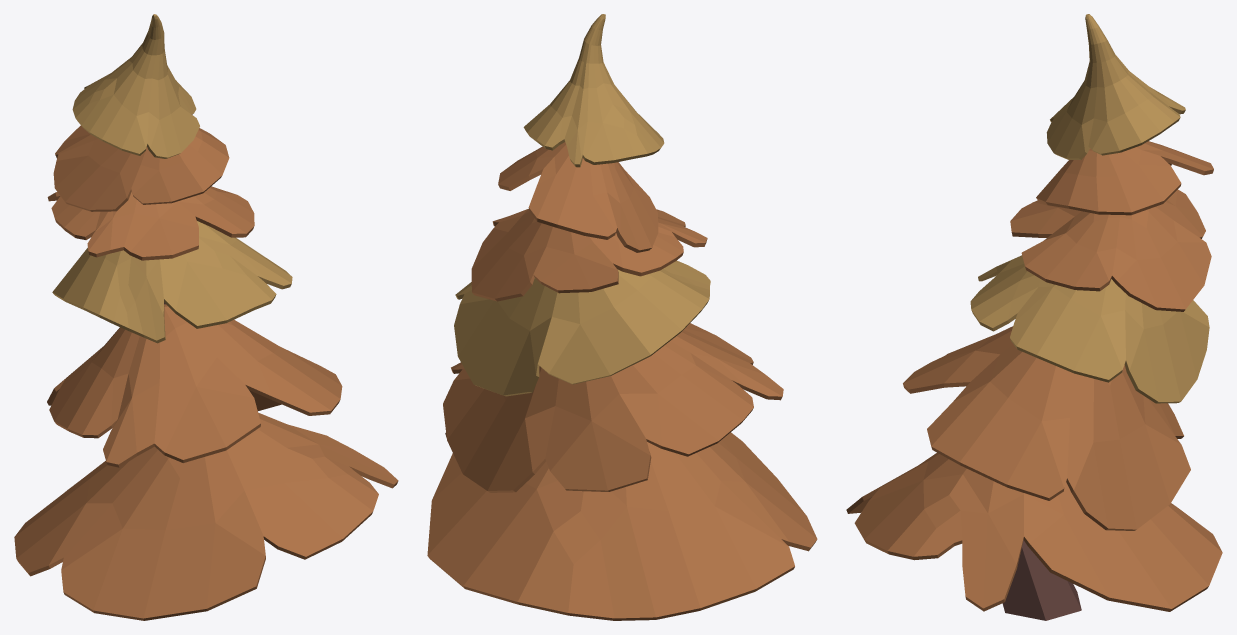
Rendered from PineTree_Autumn_3.glb.
3 renders of one model, left to right at view 1: azimuth 30°, elevation 25°; view 2: azimuth 150°, elevation 25°; view 3: azimuth 270°, elevation 25°, orthographic. The views are drawn at different scales.
Visible parts, largest first — view 1: PineTree_Autumn_3_Cylinder.063; view 2: PineTree_Autumn_3_Cylinder.063; view 3: PineTree_Autumn_3_Cylinder.063.
Part boxes in pixels (x1,y1,x2,y2): PineTree_Autumn_3_Cylinder.063: (14, 14, 398, 620); PineTree_Autumn_3_Cylinder.063: (427, 14, 817, 620); PineTree_Autumn_3_Cylinder.063: (846, 14, 1222, 620).
Size of the model in its own units: 2.16 by 3.3 by 1.95.
